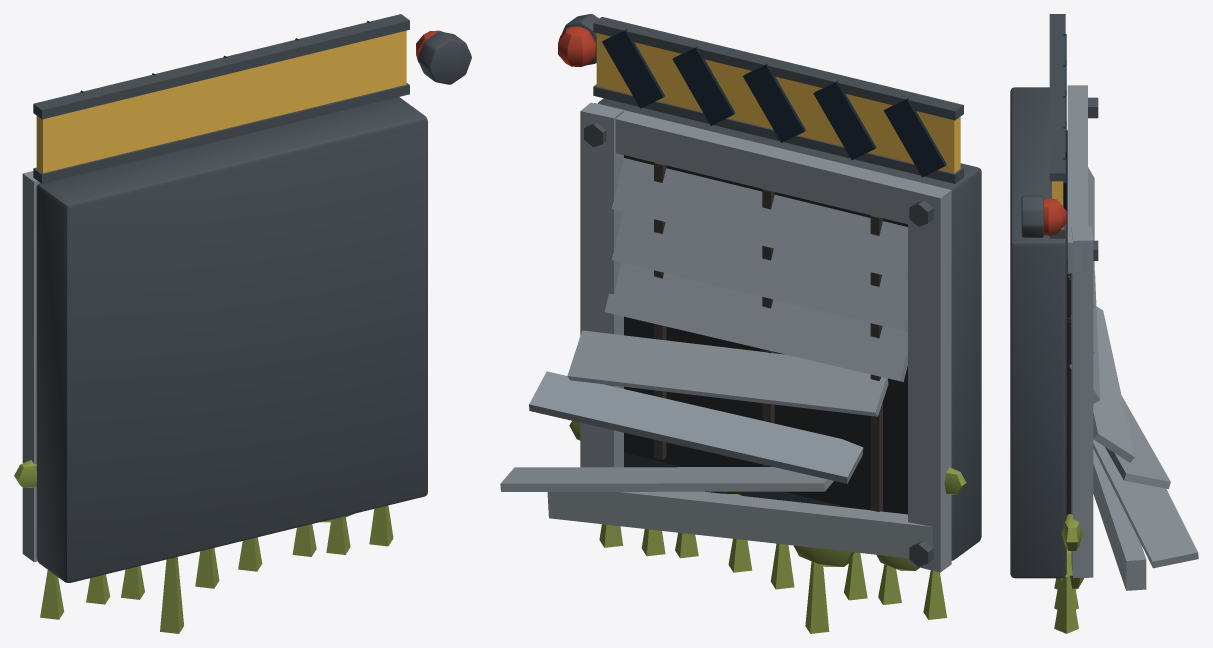
The model's file is Kit_GasVent.fbx.
3 renders of one model, left to right at view 1: azimuth 30°, elevation 25°; view 2: azimuth 150°, elevation 25°; view 3: azimuth 270°, elevation 25°, orthographic. The views are drawn at different scales.
Parts seen in each view (by area): view 1: Collar; view 2: Collar; view 3: Collar.
Part boxes in pixels (box(x1,y1,x2,y2)): Collar: box(14, 14, 471, 633); Collar: box(500, 14, 981, 633); Collar: box(1010, 14, 1198, 633).
Bounding box in the file's own units: 3.88 × 4.86 × 1.67.
